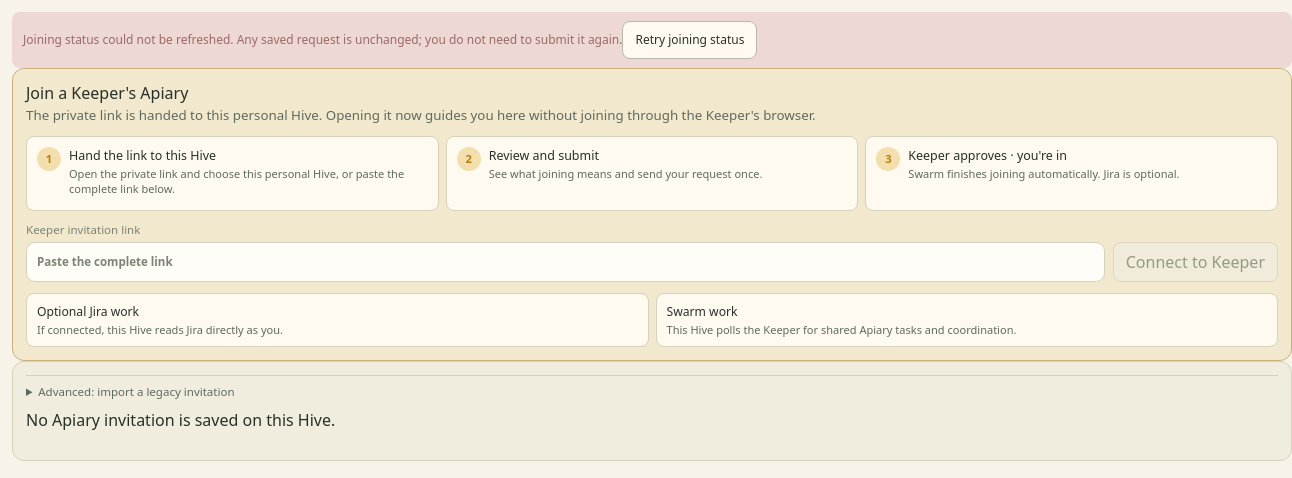
Scenario: failed enrollment read is visible and retry recovers without another submission
The width and height of the screenshot is (1292, 478).
Check: the message shows "you do not need to submit it again", box [23,31,622,48]
Click the button "Retry joining status" at [690, 40], box [622,21,758,59]
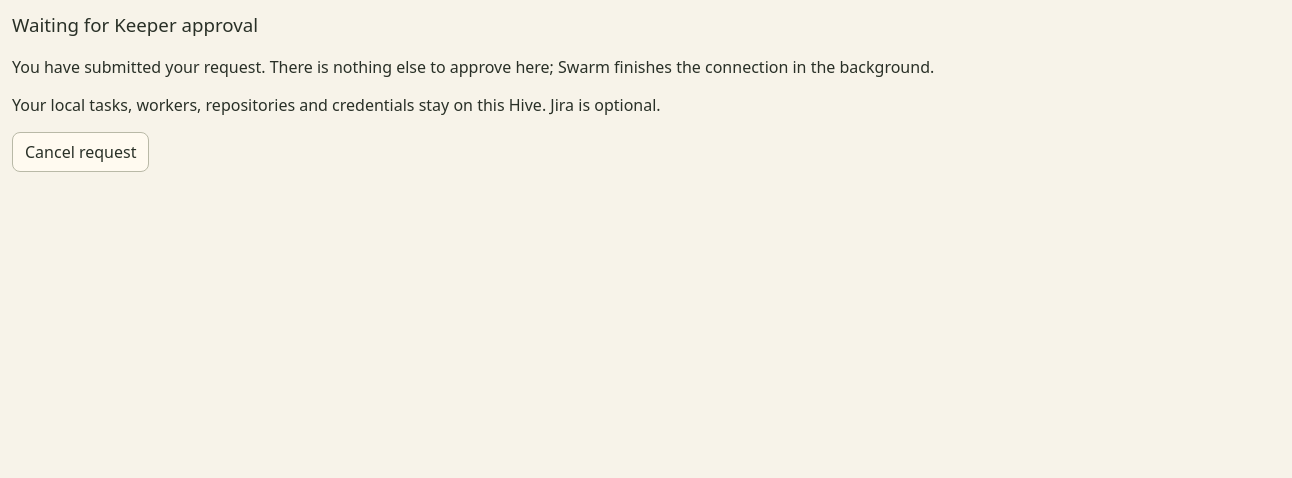
Check: the heading "Waiting for Keeper approval" is shown, box [12,12,258,37]
Check: the message is gone
